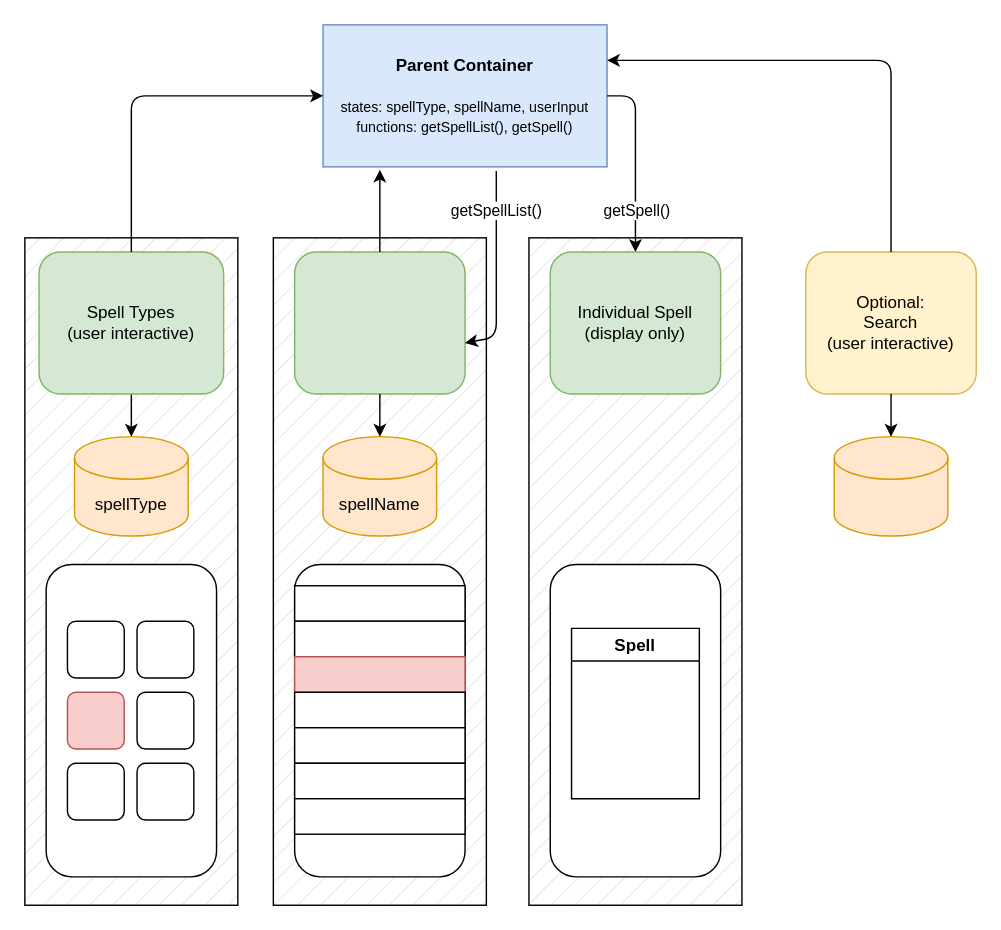
Some shapes in this 1001 by 930 pixel diagram are drawn without their labels. Each missing label, with the box of its shape:
Name Incantation Effect Type: (549, 563, 721, 877)
Spell List (user interactive): (293, 251, 465, 394)
userInput: (833, 435, 948, 536)
